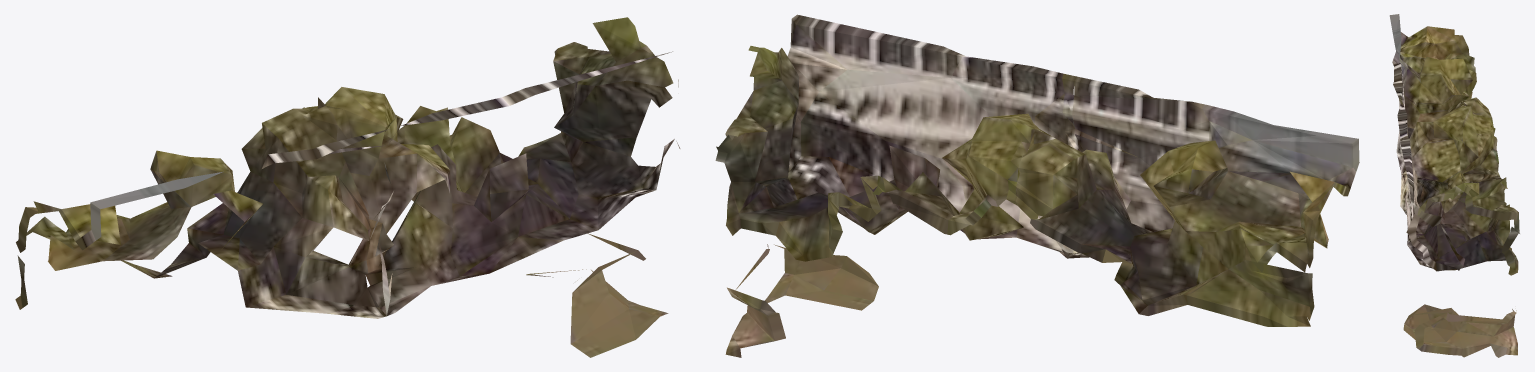
3 renders of one model, left to right at view 1: azimuth 30°, elevation 25°; view 2: azimuth 150°, elevation 25°; view 3: azimuth 270°, elevation 25°, orthographic. The views are drawn at different scales.
Visible parts, largest first — view 1: Mesh_0; view 2: Mesh_0; view 3: Mesh_0.
Boxes of the visible parts, <box> form: Mesh_0: <box>15,17,680,357</box>; Mesh_0: <box>715,14,1359,357</box>; Mesh_0: <box>1389,14,1519,357</box>.
Bounding box in the file's own units: 30.02 × 14.13 × 9.49.
Materials: 1 (1 with a texture image).
